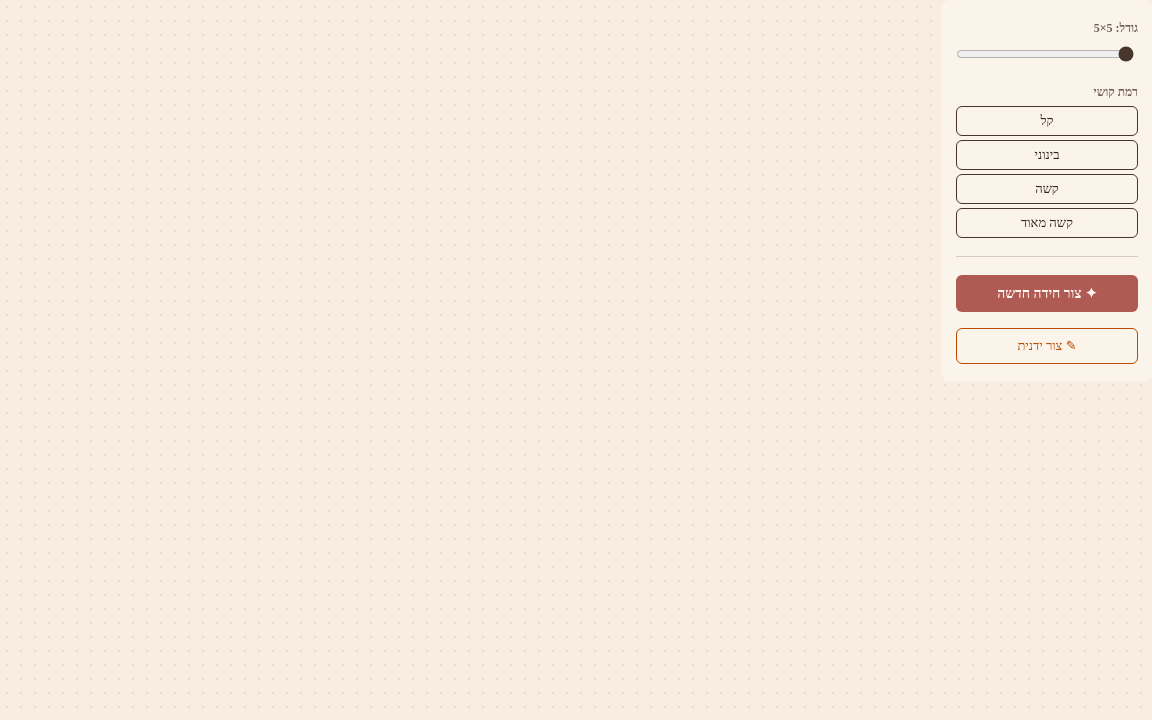
Test: PuzzleSetupForm › shows an error message when generation fails
The width and height of the screenshot is (1152, 720).
Click the button "✦ צור חידה חדשה". click: (1047, 294)
box: [956, 275, 1138, 312]
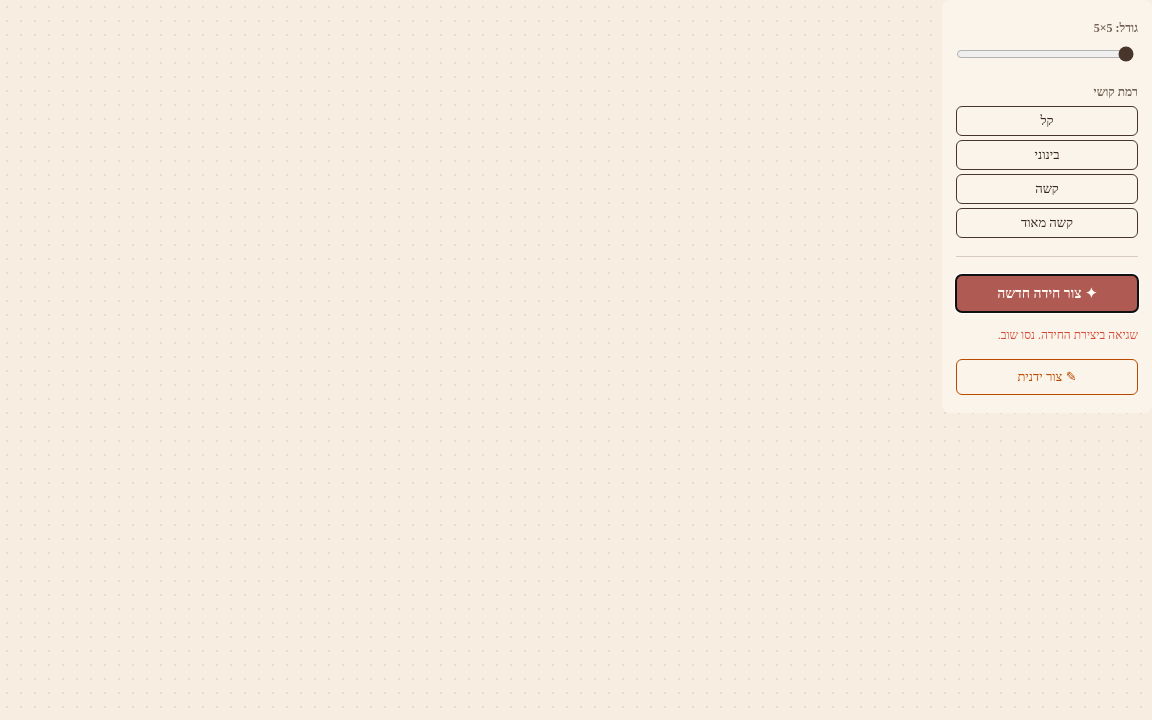
Expected: the text "שגיאה ביצירת החידה. נסו שוב." is shown, [998, 328, 1138, 342]
